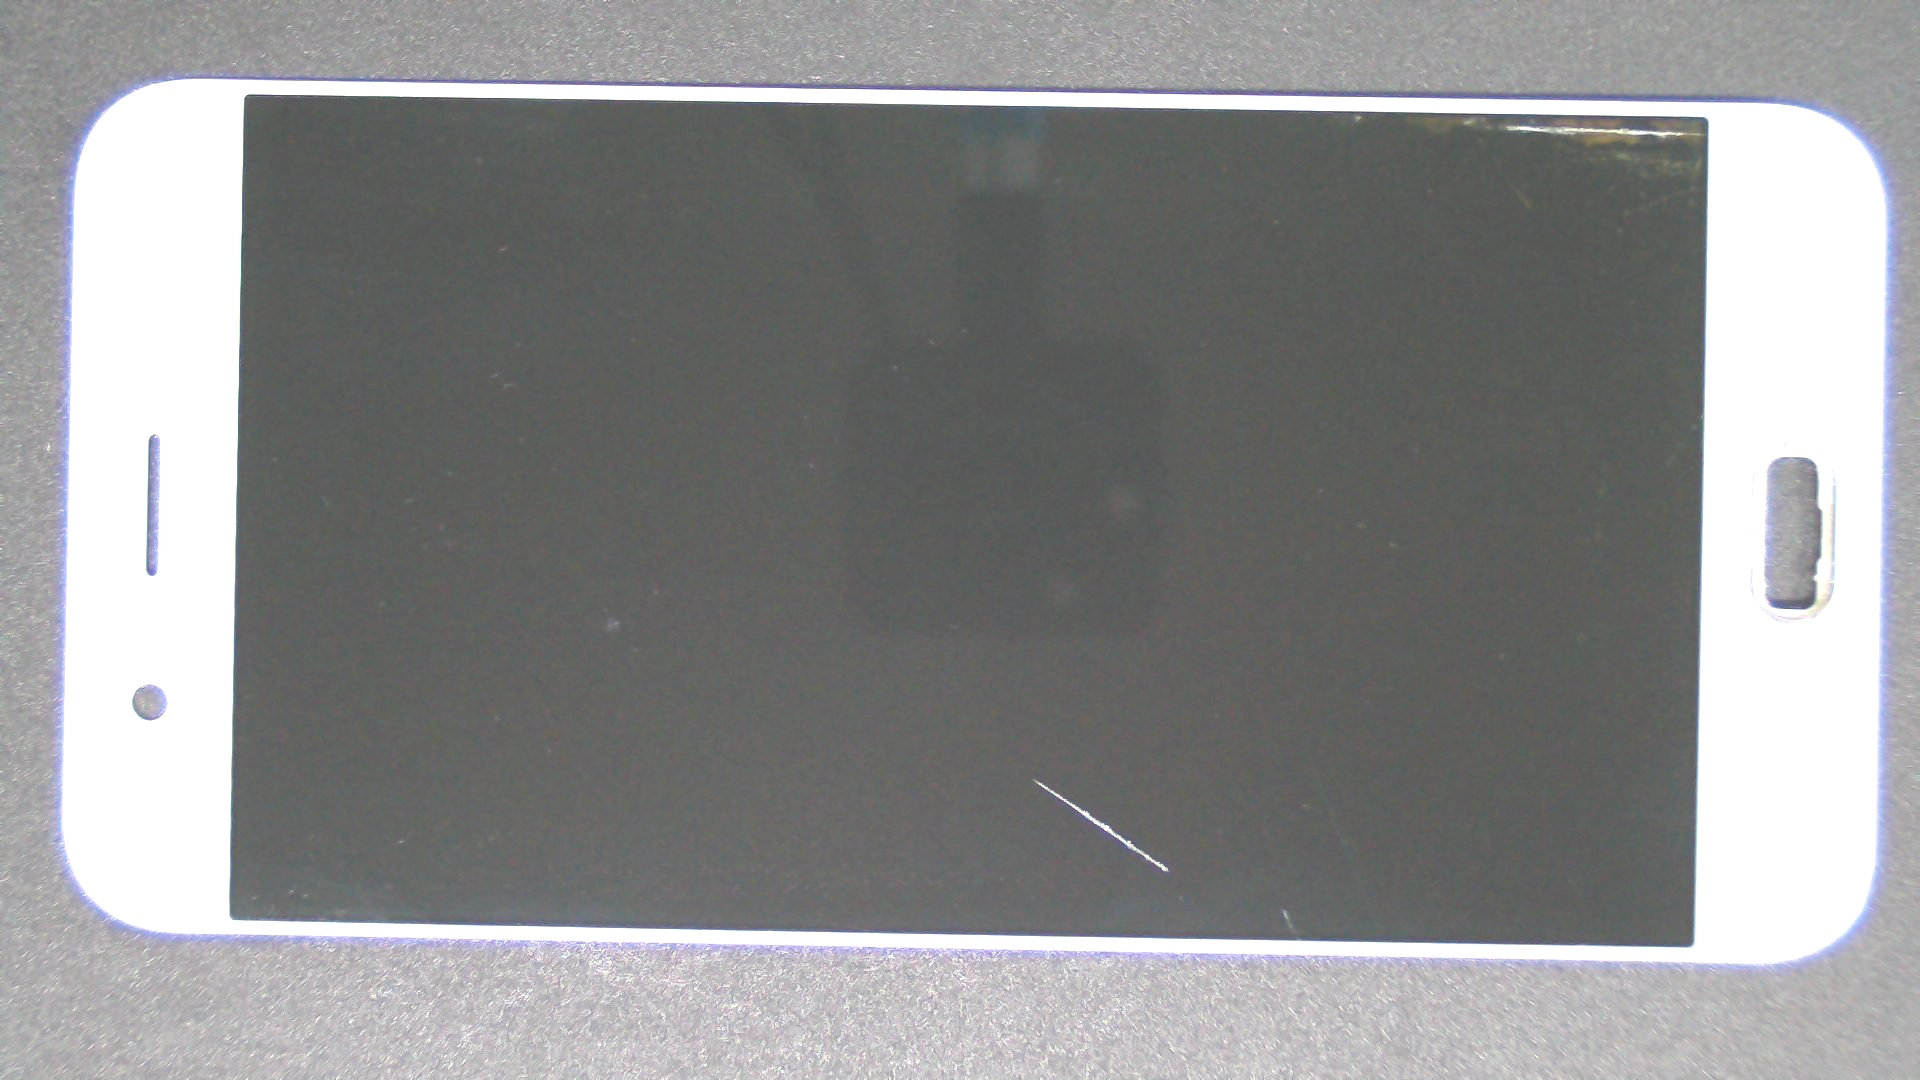oil: (516, 389, 1549, 1080), (754, 62, 1920, 186)
